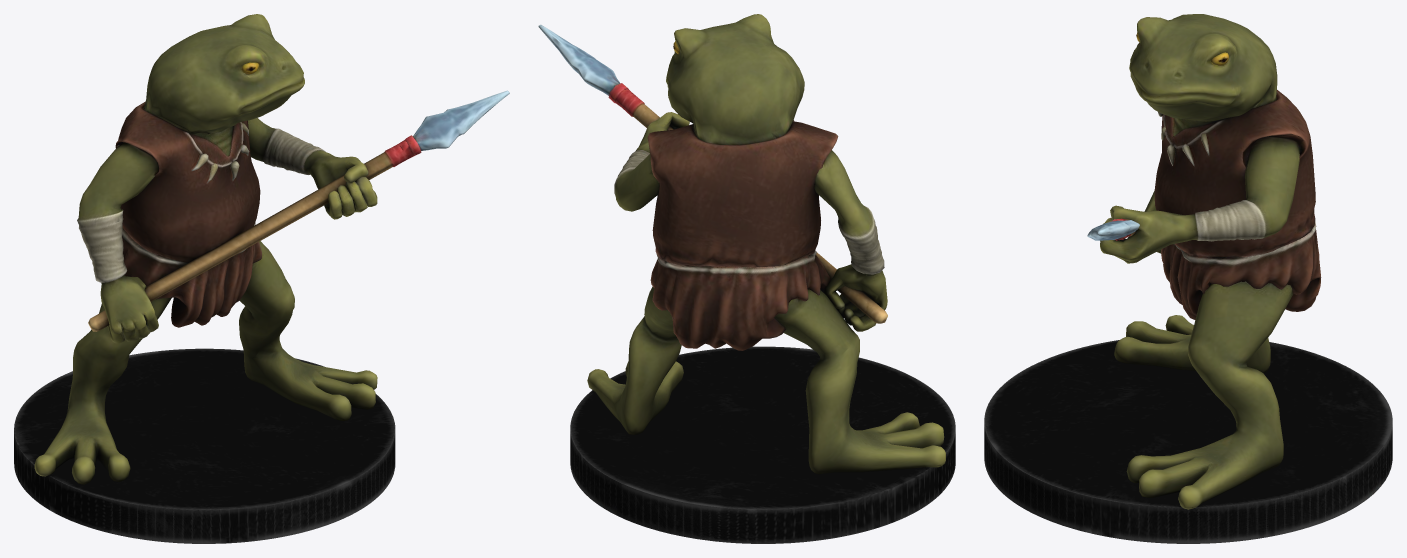
The model's file is MZ4250 - Bullywug.glb.
3 renders of one model, left to right at view 1: azimuth 30°, elevation 25°; view 2: azimuth 150°, elevation 25°; view 3: azimuth 270°, elevation 25°, orthographic. The views are drawn at different scales.
Visible parts, largest first — view 1: body_low.001, base_low.001, spear_low.001; view 2: body_low.001, base_low.001, spear_low.001; view 3: body_low.001, base_low.001, spear_low.001.
Part boxes in pixels (bbox=[...]): body_low.001: bbox=[34, 14, 377, 484]; base_low.001: bbox=[14, 348, 395, 543]; spear_low.001: bbox=[88, 90, 509, 331]; body_low.001: bbox=[587, 14, 945, 474]; base_low.001: bbox=[570, 346, 955, 543]; spear_low.001: bbox=[538, 24, 887, 323]; body_low.001: bbox=[1100, 14, 1321, 509]; base_low.001: bbox=[984, 340, 1392, 543]; spear_low.001: bbox=[1087, 218, 1139, 240].
Size of the model in its own units: 6.96 by 6.42 by 5.25.
Materials: 1 (1 with a texture image).
